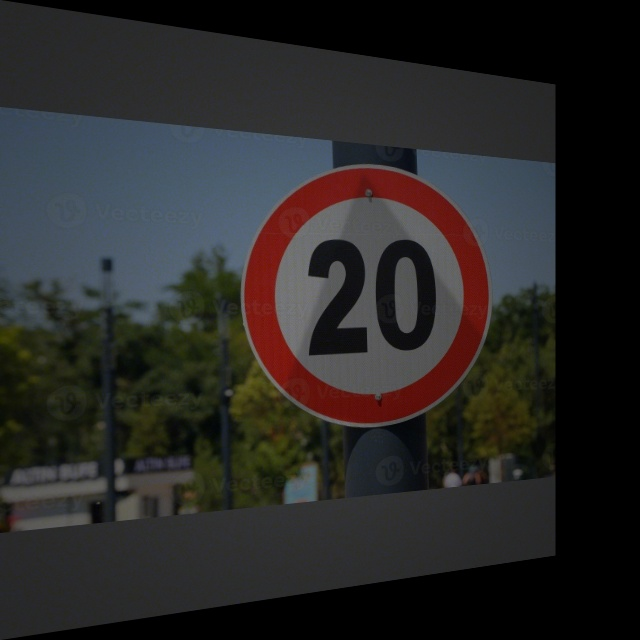Speed_Limit_20: (245, 149, 487, 423)
